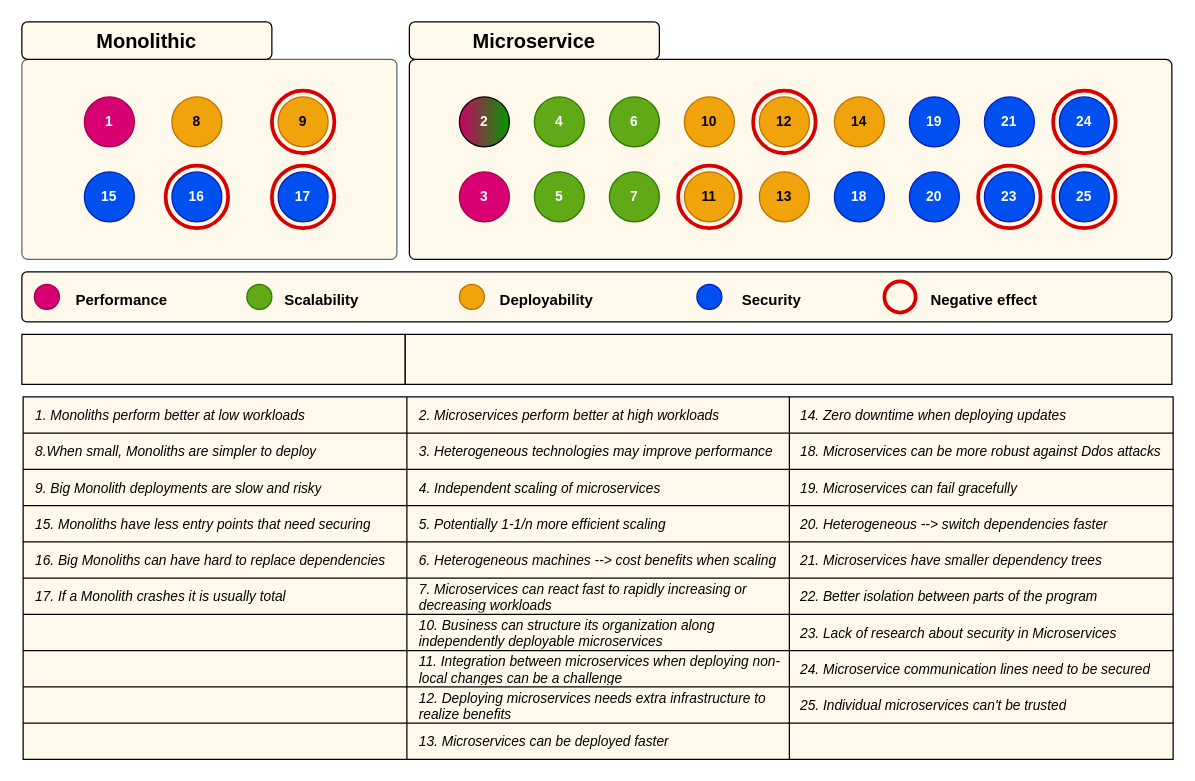
This 1195x781 diagram has some shape labels left out. The box of each missing label's shape, as (x1, y1, x2, y2) in pixels:
Microservice Architecture: (404, 333, 1172, 384)
Monolithic Architecture: (21, 333, 405, 384)
